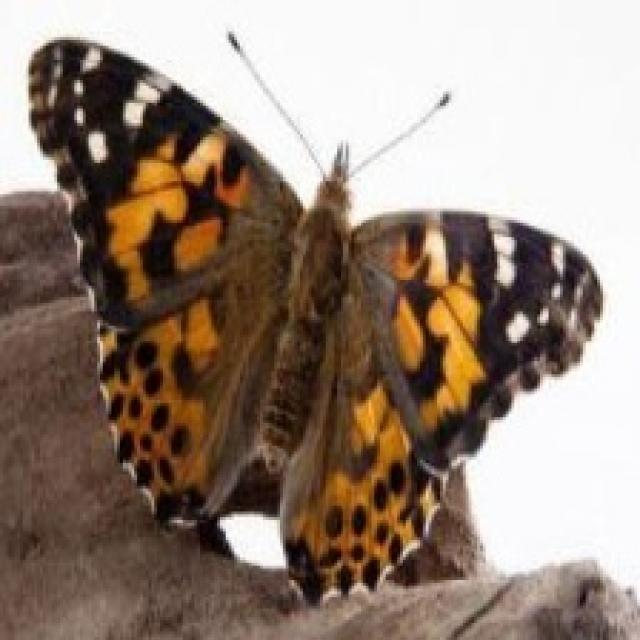butterfly: (23, 26, 603, 608)
